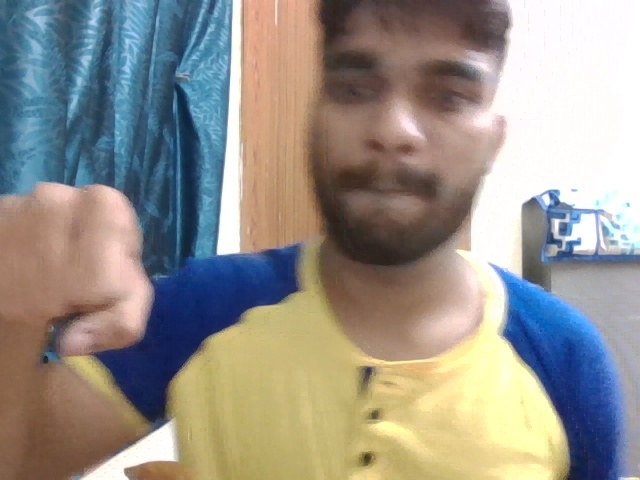Yes: (1, 174, 174, 371)
